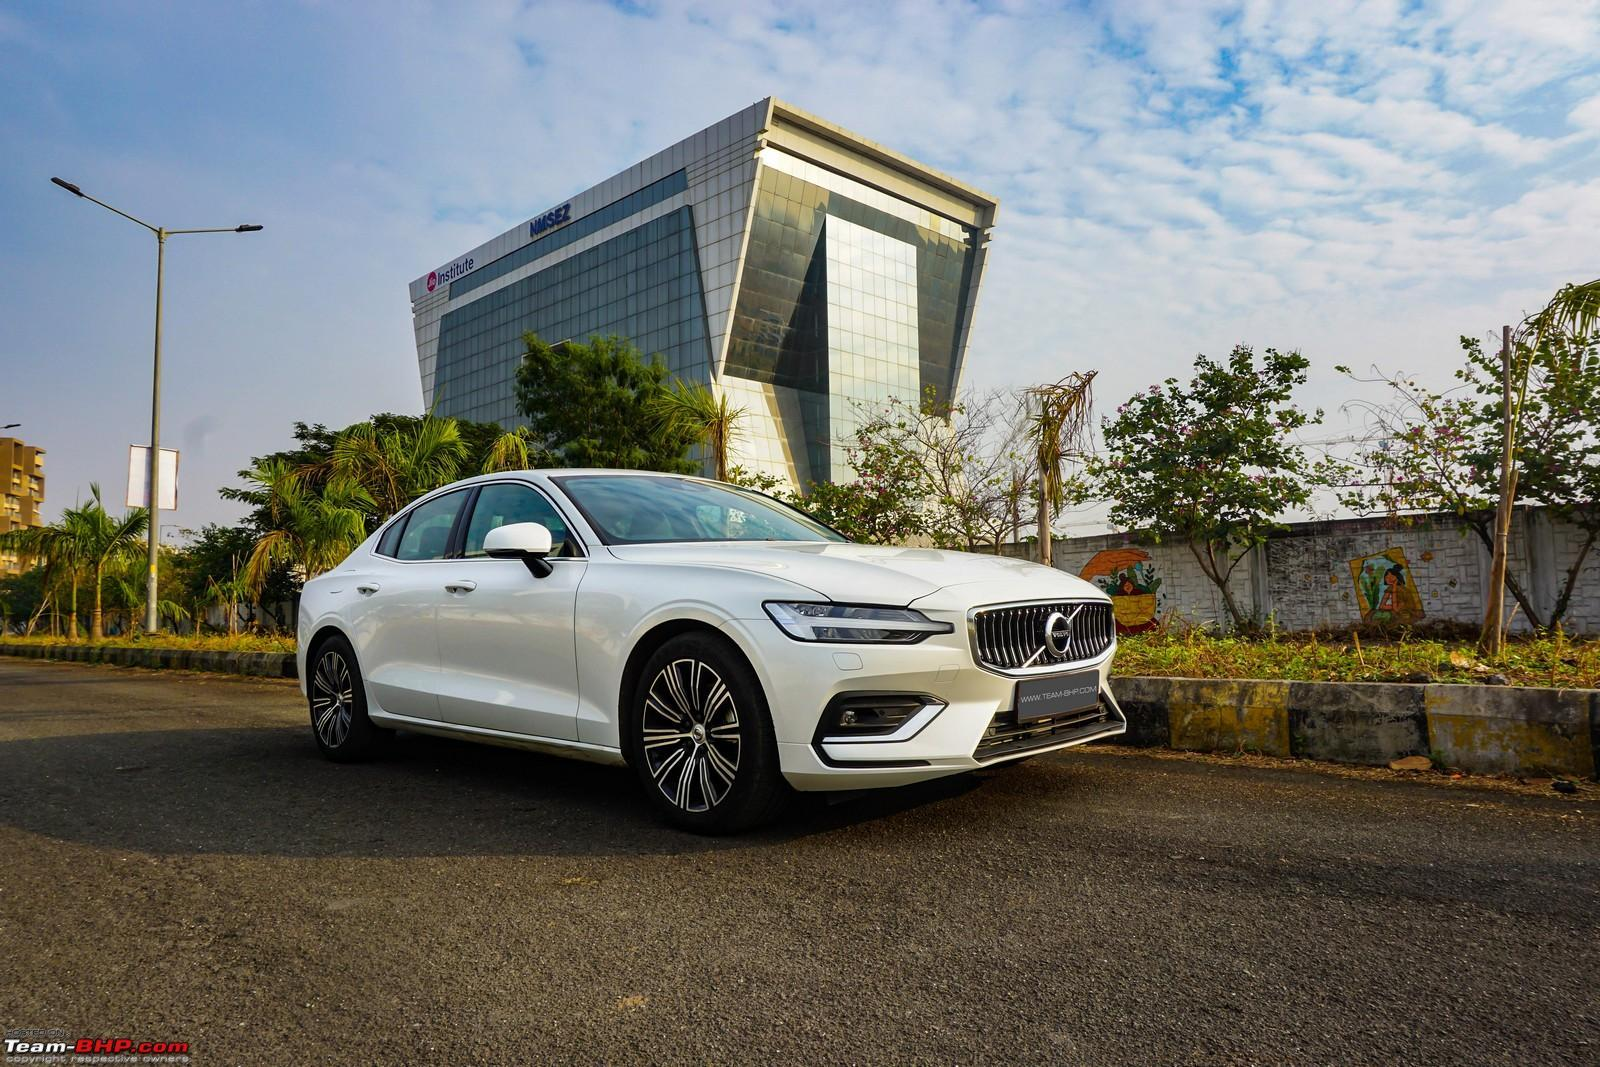car: (214, 433, 1239, 906)
